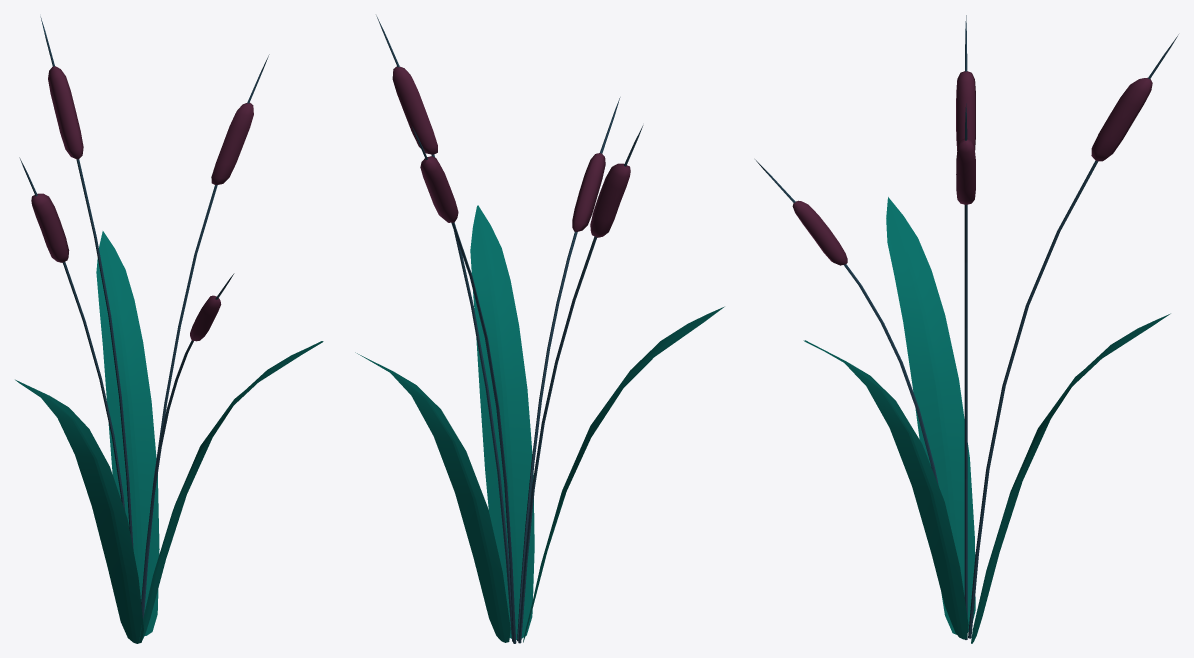
File: cattail (2).fbx
The picture shows the model from 3 angles, left to right: view 1: azimuth 30°, elevation 25°; view 2: azimuth 150°, elevation 25°; view 3: azimuth 270°, elevation 25°; orthographic projection. The views are drawn at different scales.
Visible parts, largest first — view 1: polySurface18; view 2: polySurface18; view 3: polySurface18.
Boxes of the visible parts, x1,y1,x2,y2 form: polySurface18: (15,16,323,643); polySurface18: (355,15,724,643); polySurface18: (755,15,1178,643).
Size of the model in its own units: 6.55 by 11.93 by 7.61.
